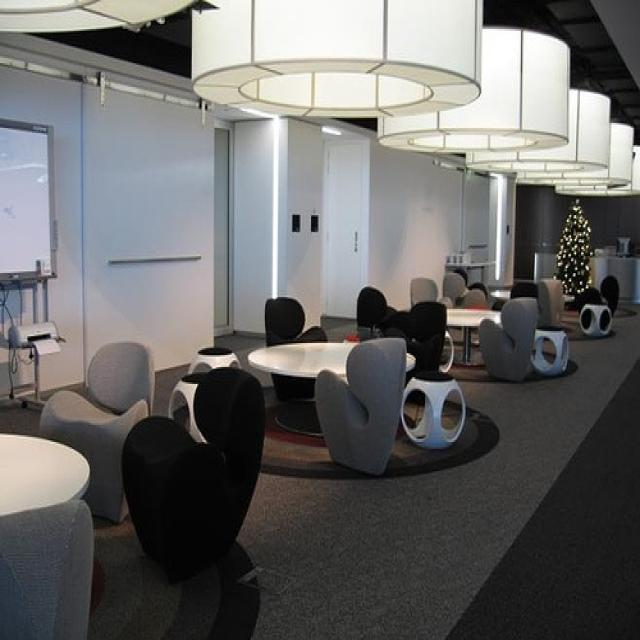chair: (116, 364, 268, 580), (35, 338, 154, 520), (315, 334, 408, 472), (4, 500, 95, 638), (262, 296, 328, 404), (475, 295, 535, 379), (384, 302, 448, 372), (573, 275, 621, 333), (352, 285, 394, 324), (404, 275, 450, 307), (539, 278, 563, 326), (439, 270, 465, 304), (462, 287, 485, 307)
